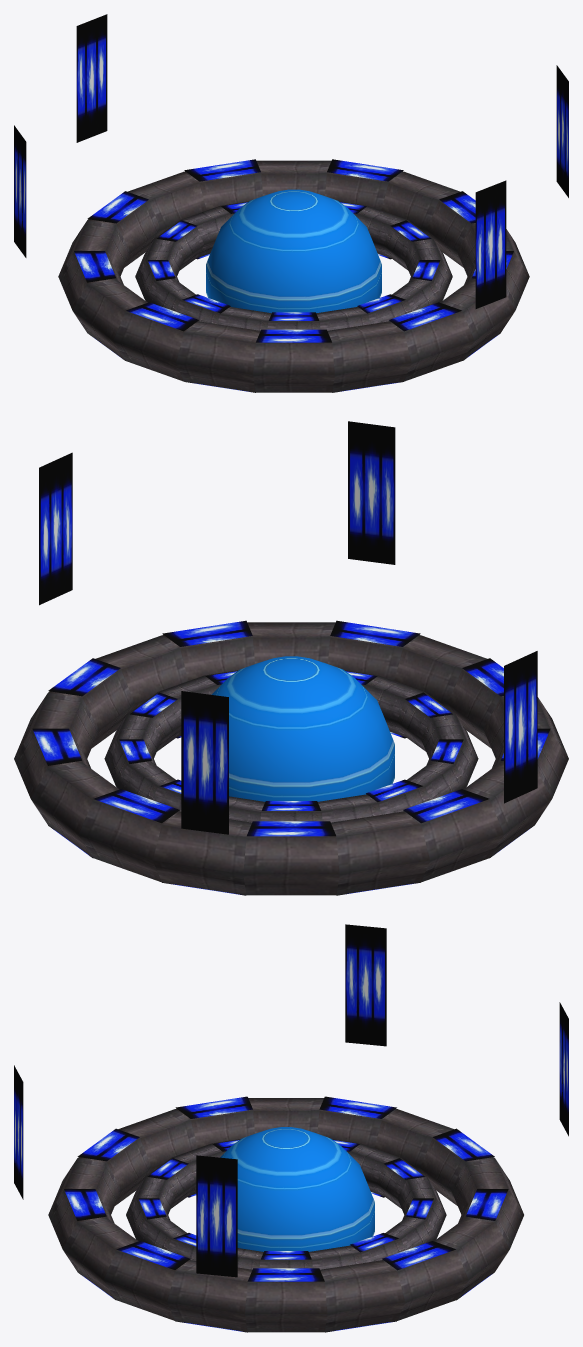
Rendered from terrainobjectvalhallaglassfloordoodad_00.fbx.
3 renders of one model, top to bottom at view 1: azimuth 30°, elevation 25°; view 2: azimuth 150°, elevation 25°; view 3: azimuth 270°, elevation 25°, orthographic. The views are drawn at different scales.
Visible parts, largest first — view 1: Geoset_0, Geoset_1, Geoset_2; view 2: Geoset_0, Geoset_1, Geoset_2; view 3: Geoset_0, Geoset_1, Geoset_2.
Part boxes in pixels (x1,y1,x2,y2): Geoset_0: (58, 160, 529, 392); Geoset_1: (14, 14, 568, 392); Geoset_2: (206, 189, 381, 313); Geoset_0: (14, 622, 568, 895); Geoset_1: (32, 421, 550, 895); Geoset_2: (211, 656, 394, 801); Geoset_0: (48, 1098, 523, 1332); Geoset_1: (14, 924, 568, 1332); Geoset_2: (220, 1127, 374, 1251).
Size of the model in its own units: 5.09 by 2.6 by 5.08.
Materials: 3 (3 with a texture image).
